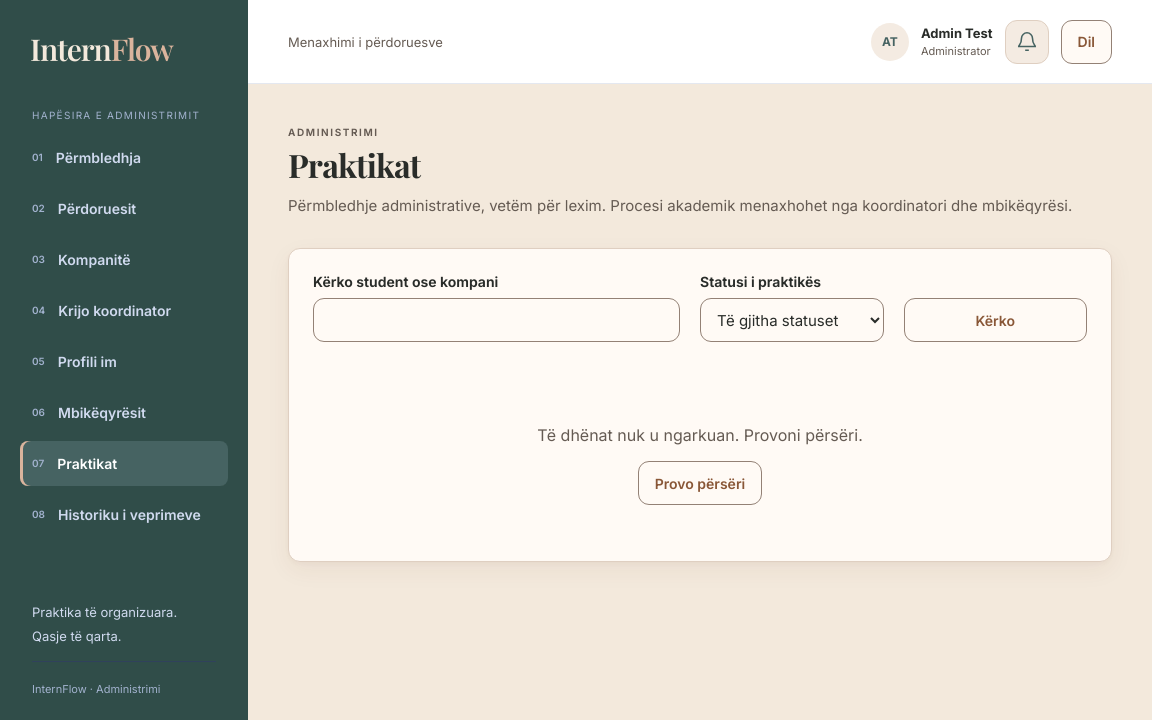
Test: handles empty lists and list retry
The width and height of the screenshot is (1152, 720).
Expected: the message shows "Të dhënat nuk u ngarkuan.", [537, 425, 863, 445]
What coordinates should you click on to do the following:
click the button "Provo përsëri"
I would click on:
 (700, 483)
Its box is [638, 461, 762, 505].
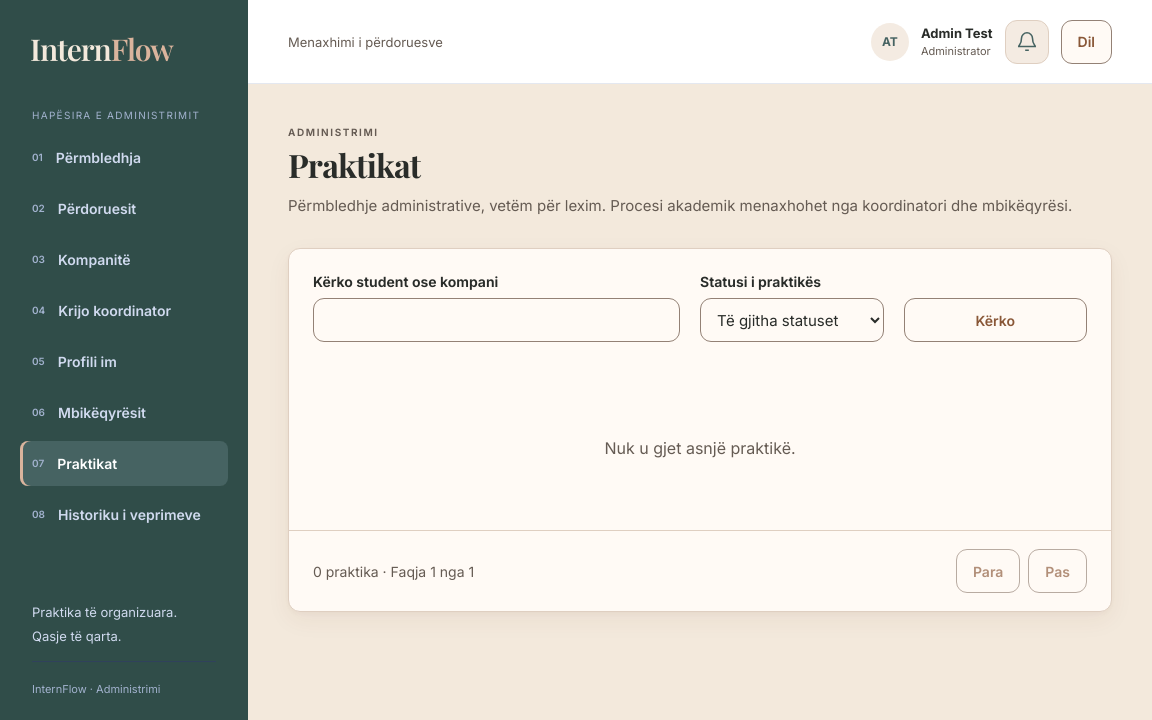
Expected: the text "Nuk u gjet asnjë praktikë." is shown, [604, 438, 796, 458]
